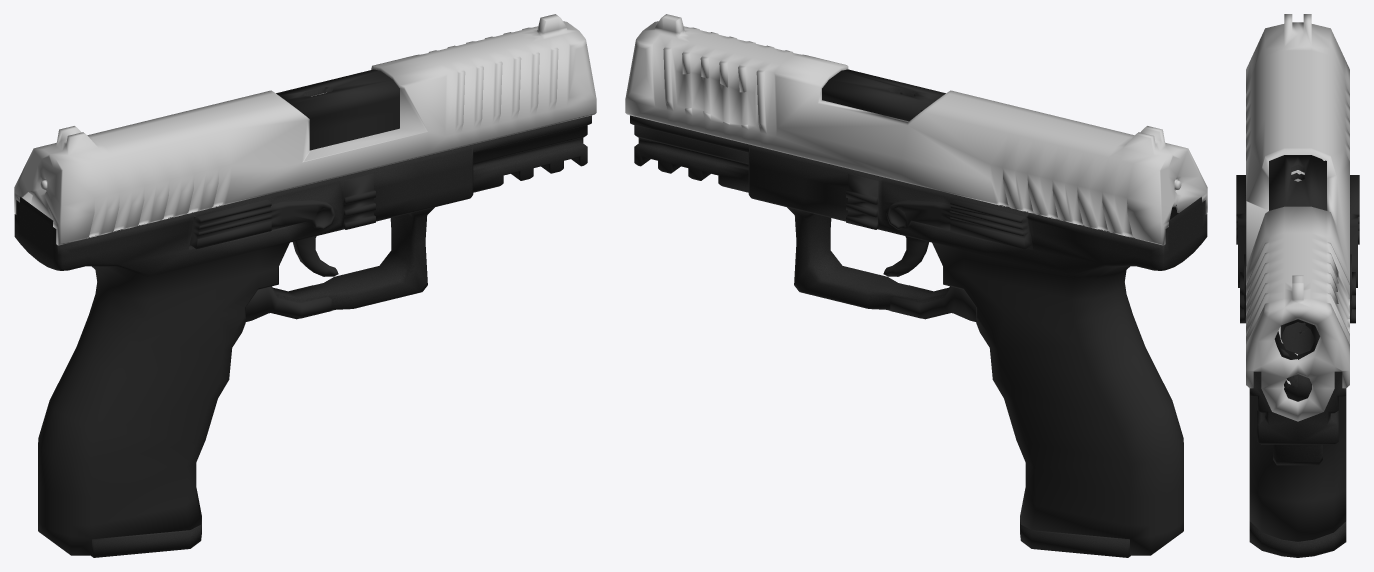
File: p99qNEWANDIMPROVED!!!!.fbx
3 renders of one model, left to right at view 1: azimuth 30°, elevation 25°; view 2: azimuth 150°, elevation 25°; view 3: azimuth 270°, elevation 25°, orthographic. The views are drawn at different scales.
Visible parts, largest first — view 1: GripLoPo, TopPartLoPo, BarrelBulletThingyLoPo, TriggerLoPo; view 2: GripLoPo, TopPartLoPo, BarrelBulletThingyLoPo, TriggerLoPo; view 3: TopPartLoPo, GripLoPo, BarrelBulletThingyLoPo.
Boxes of the visible parts, x1,y1,x2,y2 form: GripLoPo: [14, 115, 591, 557]; TopPartLoPo: [14, 14, 596, 245]; BarrelBulletThingyLoPo: [276, 69, 399, 150]; TriggerLoPo: [292, 236, 338, 276]; GripLoPo: [630, 115, 1207, 557]; TopPartLoPo: [625, 14, 1207, 245]; BarrelBulletThingyLoPo: [822, 69, 945, 121]; TriggerLoPo: [883, 236, 929, 276]; TopPartLoPo: [1246, 14, 1349, 421]; GripLoPo: [1236, 175, 1359, 557]; BarrelBulletThingyLoPo: [1269, 155, 1326, 401].
Size of the model in its own units: 17890 by 13482 by 3200.
